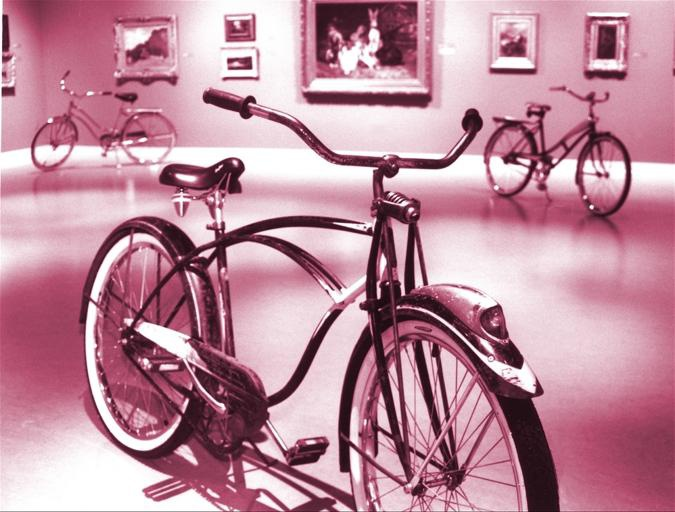non-vehicle: (76, 87, 562, 511), (485, 83, 630, 219), (25, 71, 177, 173)
